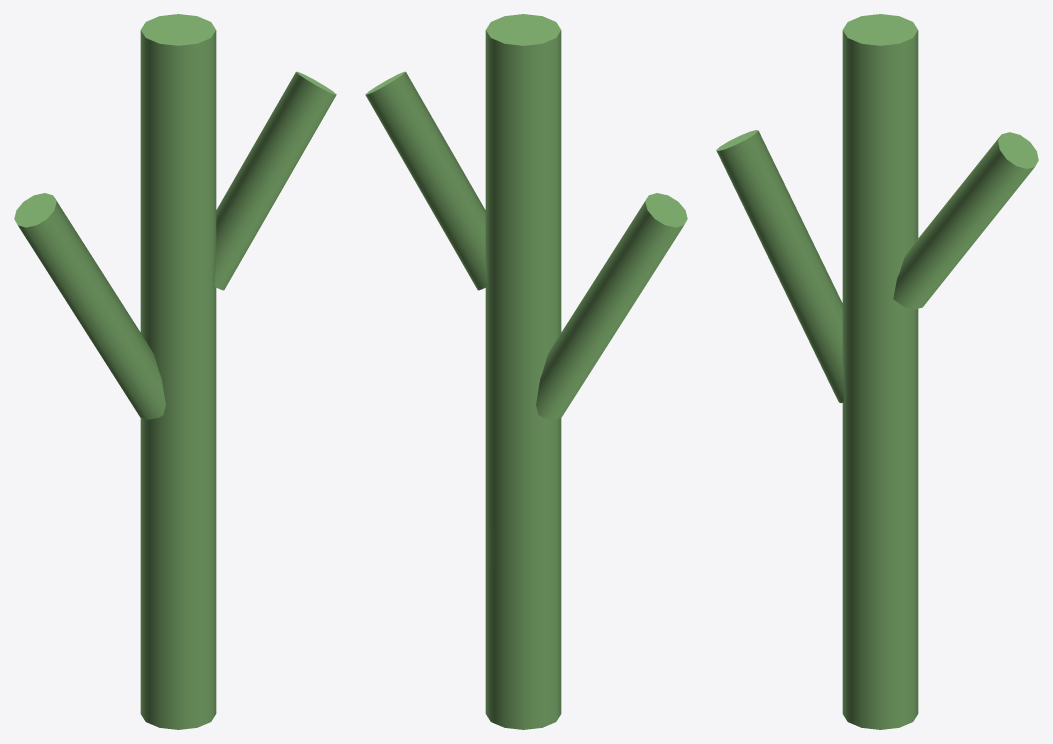
Rendered from env-ww-saguaro.glb.
3 views of the same model, side by side, from view 1: azimuth 30°, elevation 25°; view 2: azimuth 150°, elevation 25°; view 3: azimuth 330°, elevation 25° (orthographic).
Bounding box in the file's own units: 1.93 × 4 × 0.4.
